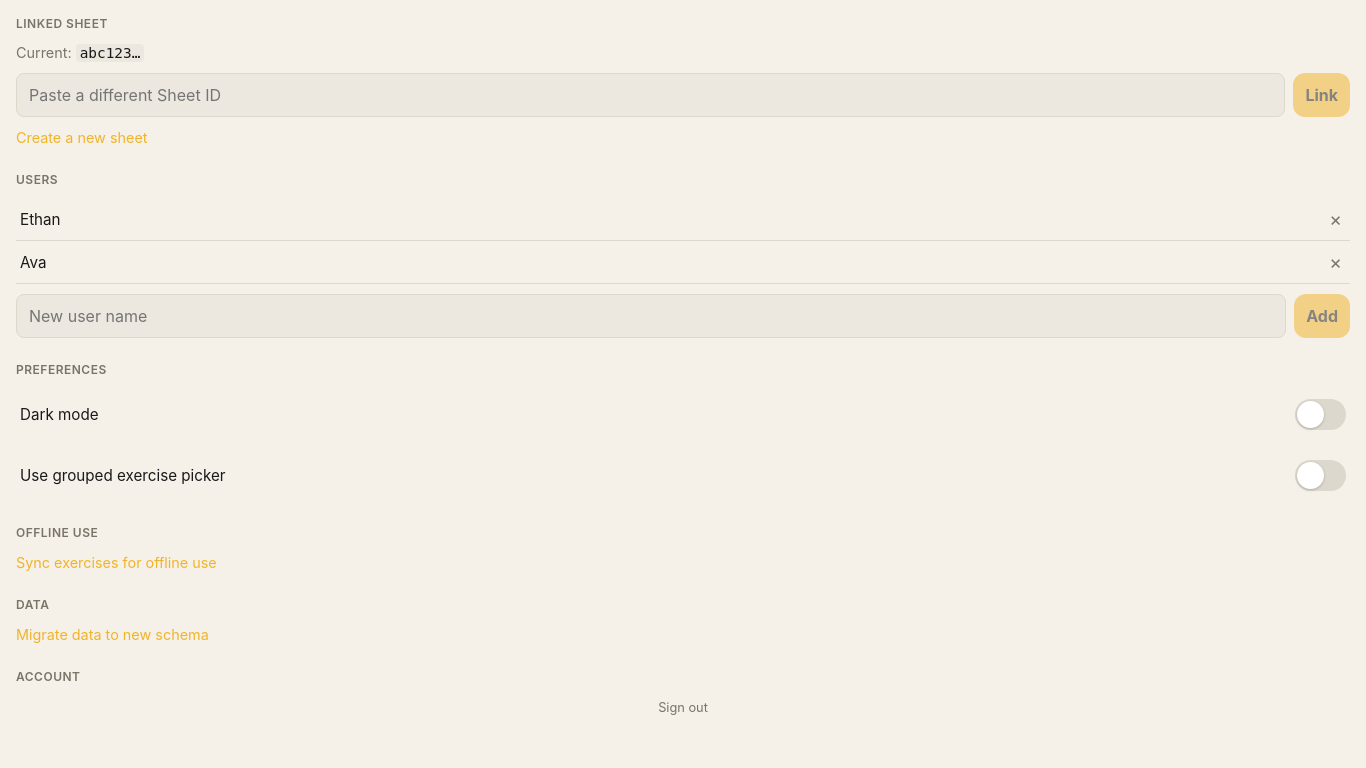
Test: SettingsView › disables the "Create a new sheet" button while the sheet operation is loading
What coordinates should you click on to do the following:
click the button "Create a new sheet"
I would click on:
 (82, 137)
Its box is [16,127,1350,148].
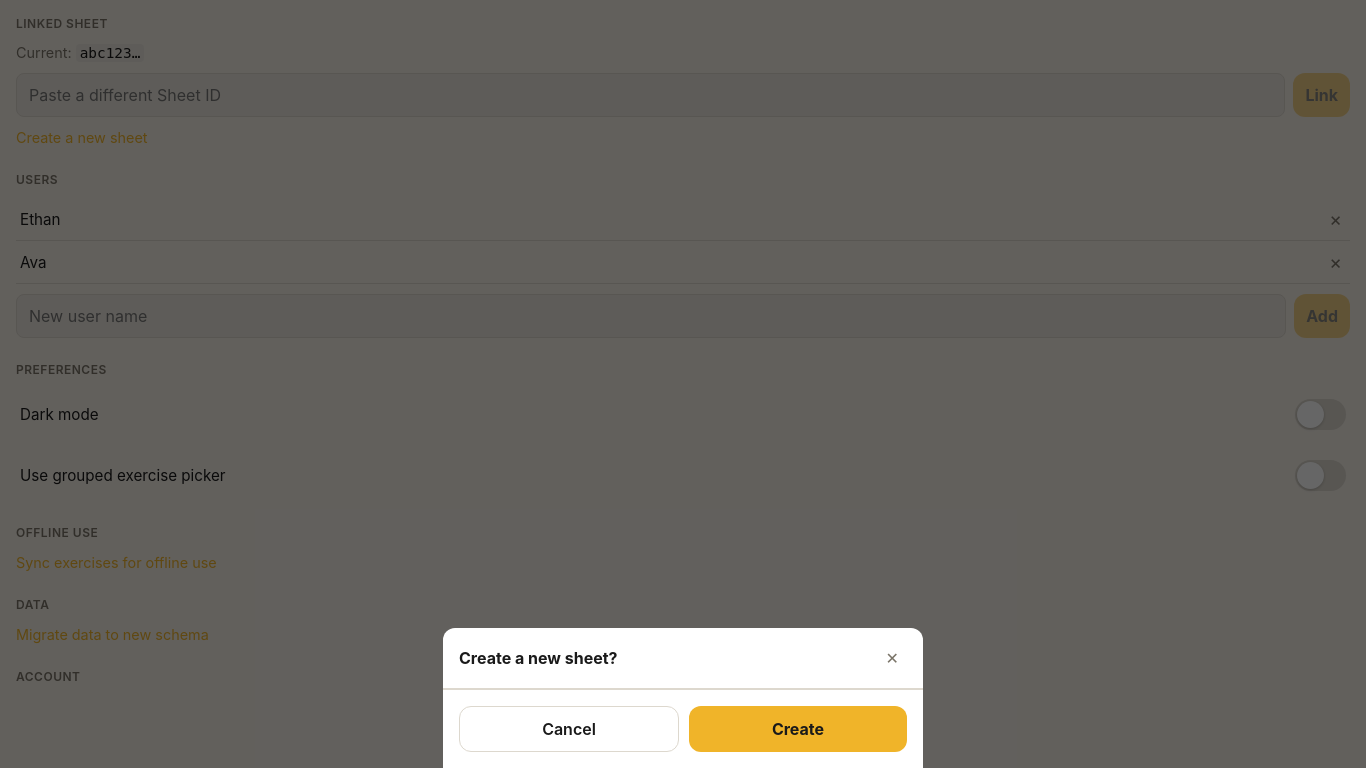
What coordinates should you click on to do the following:
click the button "Create"
I would click on:
 (798, 729)
Its box is [689,706,907,752].
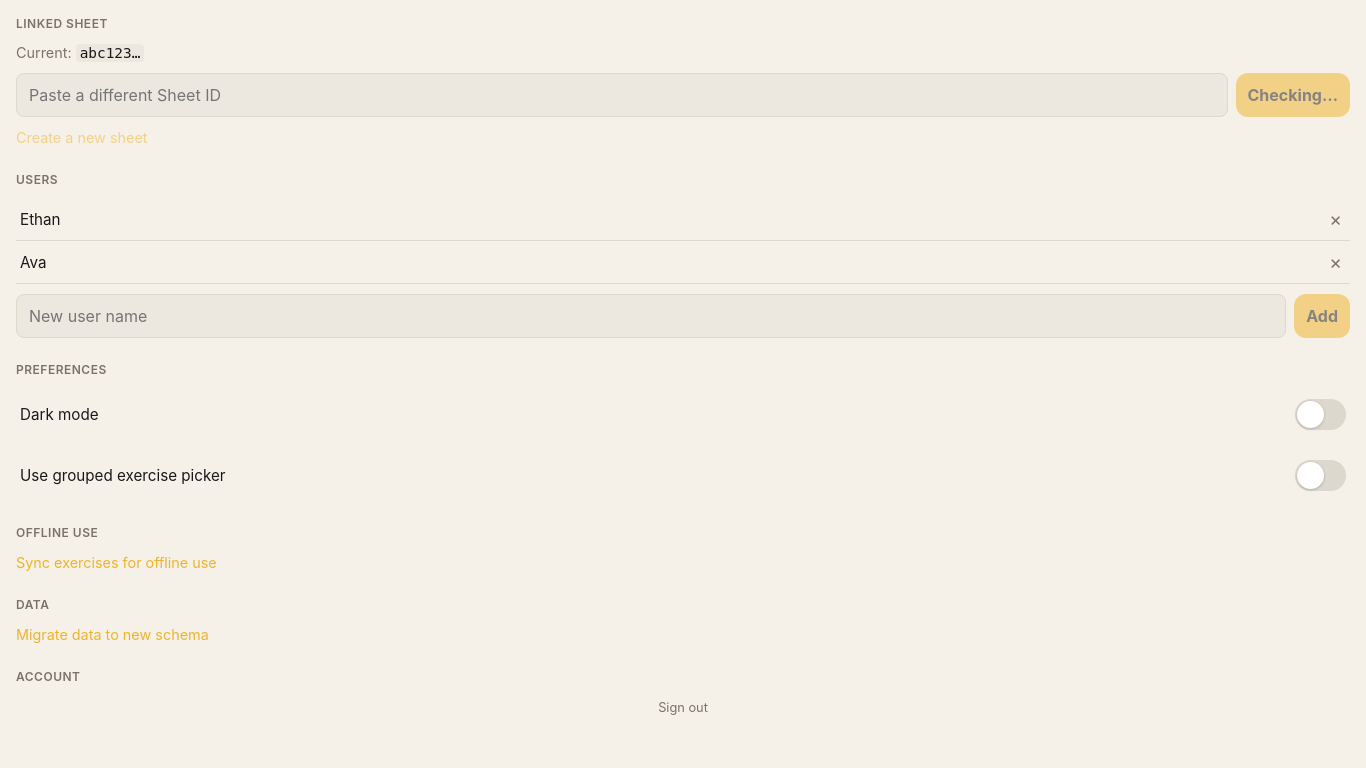
Expected: the button "Create a new sheet" is disabled, [16,127,1350,148]
